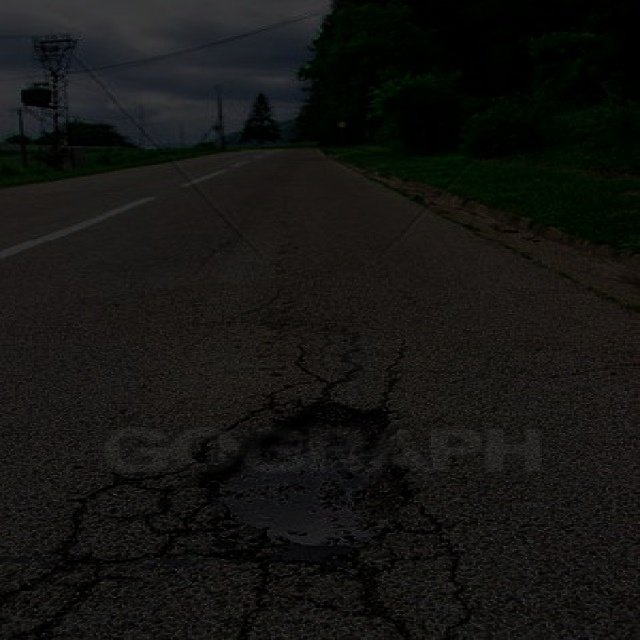Pothole: (192, 396, 420, 564)
